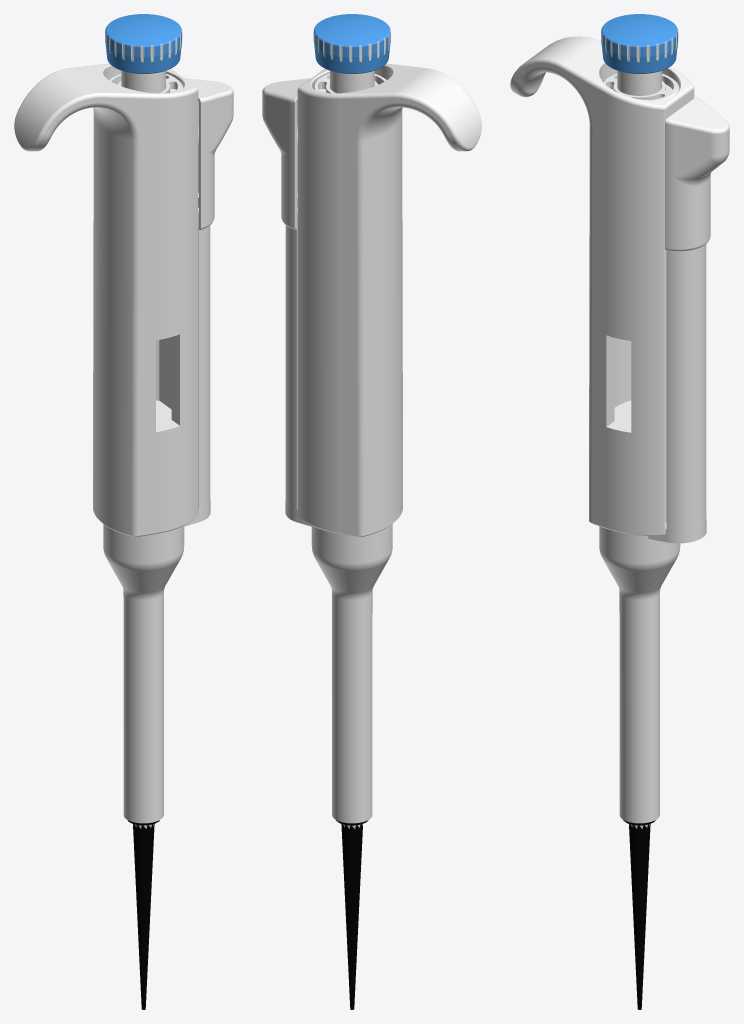
The model's file is big_ppt_new.fbx.
3 views of the same model, side by side, from view 1: azimuth 30°, elevation 25°; view 2: azimuth 150°, elevation 25°; view 3: azimuth 330°, elevation 25° (orthographic).
Visible parts, largest first — view 1: White-PW-MT11050, White-PW-MT11050-3, white-pw-mt11050, White-PW-MT11050-5, brown glass, White-PW-MT11050-2; view 2: White-PW-MT11050, White-PW-MT11050-3, white-pw-mt11050, White-PW-MT11050-5, brown glass, White-PW-MT11050-2; view 3: White-PW-MT11050, White-PW-MT11050-3, White-PW-MT11050-5, white-pw-mt11050, brown glass, White-PW-MT11050-2.
Part boxes in pixels (<box>): White-PW-MT11050: <box>14,63,198,537</box>; White-PW-MT11050-3: <box>103,193,210,823</box>; white-pw-mt11050: <box>105,14,181,73</box>; White-PW-MT11050-5: <box>185,78,233,229</box>; brown glass: <box>127,820,159,1009</box>; White-PW-MT11050-2: <box>105,29,182,93</box>; White-PW-MT11050: <box>297,63,481,537</box>; White-PW-MT11050-3: <box>285,193,392,823</box>; white-pw-mt11050: <box>313,14,390,73</box>; White-PW-MT11050-5: <box>262,78,310,229</box>; brown glass: <box>336,820,368,1009</box>; White-PW-MT11050-2: <box>314,29,390,93</box>; White-PW-MT11050: <box>510,36,694,535</box>; White-PW-MT11050-3: <box>599,244,706,823</box>; White-PW-MT11050-5: <box>665,97,729,251</box>; white-pw-mt11050: <box>601,14,677,73</box>; brown glass: <box>623,820,655,1009</box>; White-PW-MT11050-2: <box>601,29,678,95</box>.
Bounding box in the file's own units: 5.95 × 26.79 × 2.3.
